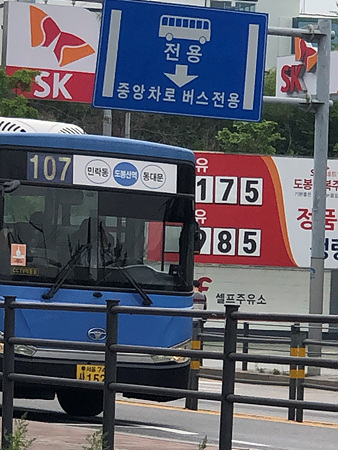bnum: (27, 152, 73, 181)
